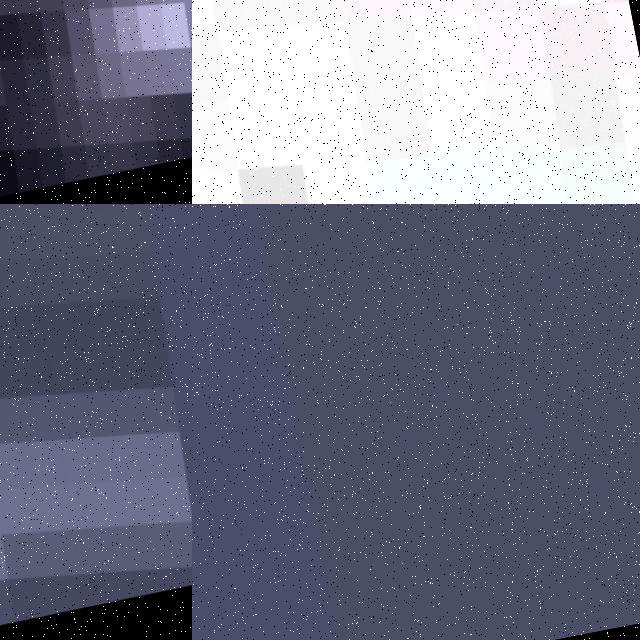drone: (192, 0, 640, 204), (0, 204, 192, 640), (0, 0, 192, 204)
